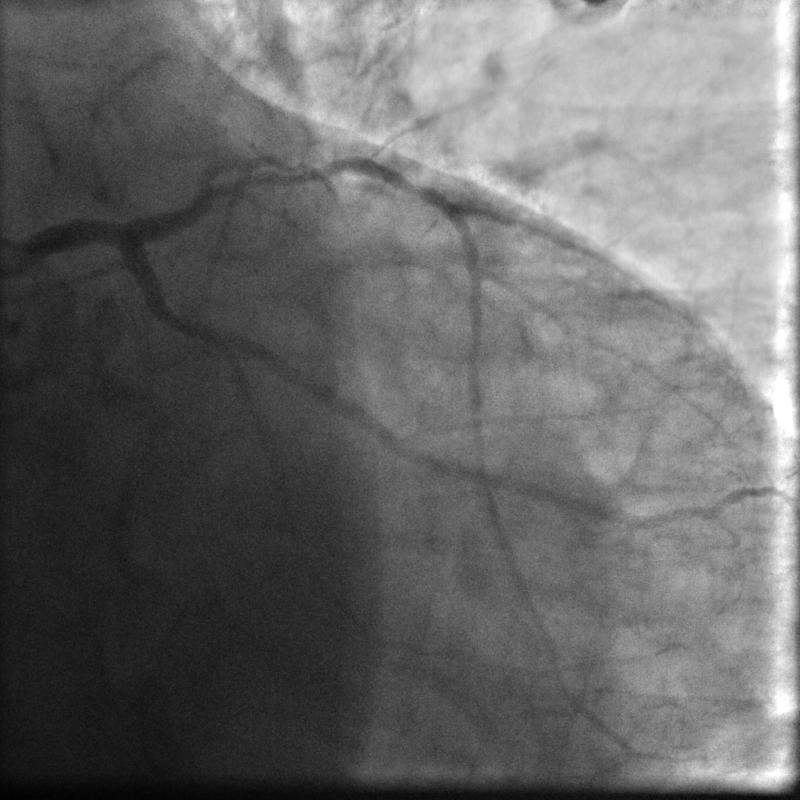Stenosis: (276, 150, 383, 182)
